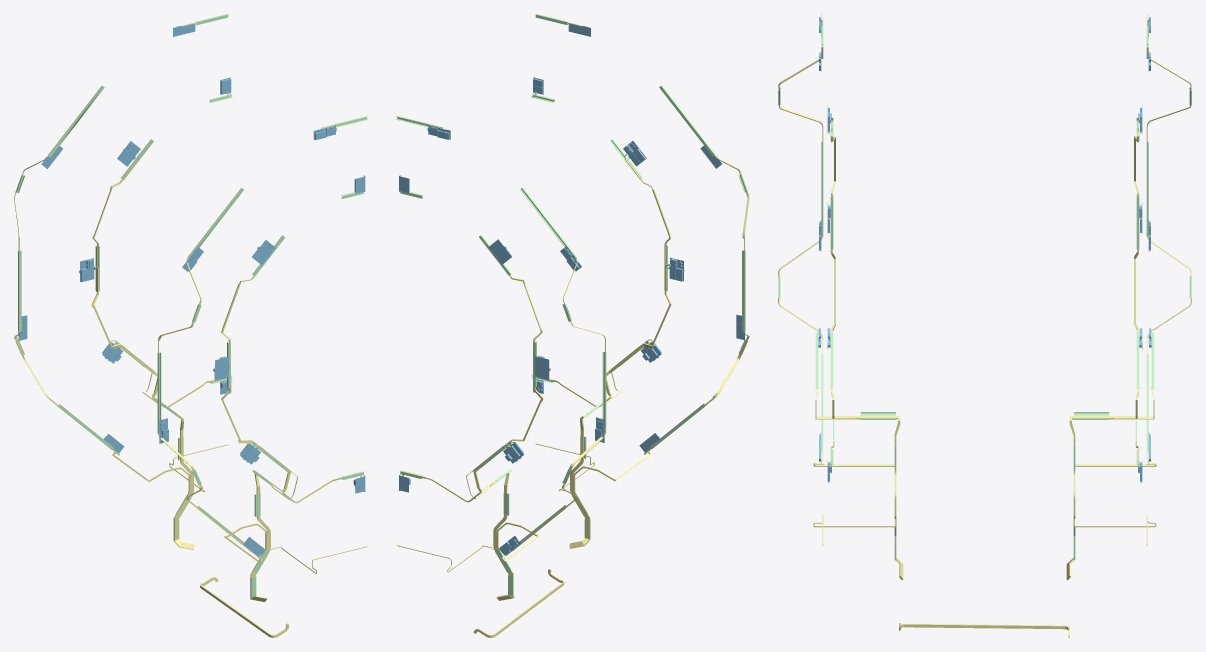
File: MSPatchPannel-cut2.glb
The picture shows the model from 3 angles, left to right: view 1: azimuth 30°, elevation 25°; view 2: azimuth 150°, elevation 25°; view 3: azimuth 270°, elevation 25°; orthographic projection. The views are drawn at different scales.
Visible parts, largest first — view 1: _000001DAB0540550_IndexedFaceSet, _000001DAB29A83A0_IndexedFaceSet, _000001DAB3976F40_01_IndexedFaceSet; view 2: _000001DAB0540550_IndexedFaceSet, _000001DAB29A83A0_IndexedFaceSet, _000001DAB3976F40_01_IndexedFaceSet; view 3: _000001DAB0540550_IndexedFaceSet, _000001DAB29A83A0_IndexedFaceSet, _000001DAB3976F40_01_IndexedFaceSet.
Part boxes in pixels (<box>): _000001DAB0540550_IndexedFaceSet: <box>14,22,367,637</box>; _000001DAB29A83A0_IndexedFaceSet: <box>15,14,367,597</box>; _000001DAB3976F40_01_IndexedFaceSet: <box>18,23,365,556</box>; _000001DAB0540550_IndexedFaceSet: <box>397,22,749,637</box>; _000001DAB29A83A0_IndexedFaceSet: <box>396,14,747,595</box>; _000001DAB3976F40_01_IndexedFaceSet: <box>399,23,745,555</box>; _000001DAB0540550_IndexedFaceSet: <box>778,18,1191,637</box>; _000001DAB29A83A0_IndexedFaceSet: <box>778,20,1191,560</box>; _000001DAB3976F40_01_IndexedFaceSet: <box>818,14,1151,482</box>.
Bounding box in the file's own units: 9.01 × 21.89 × 13.24.
